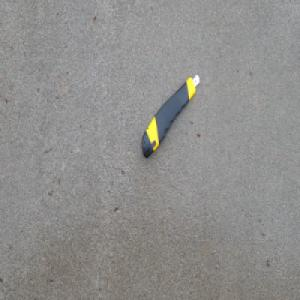Cutter: (142, 73, 200, 160)
